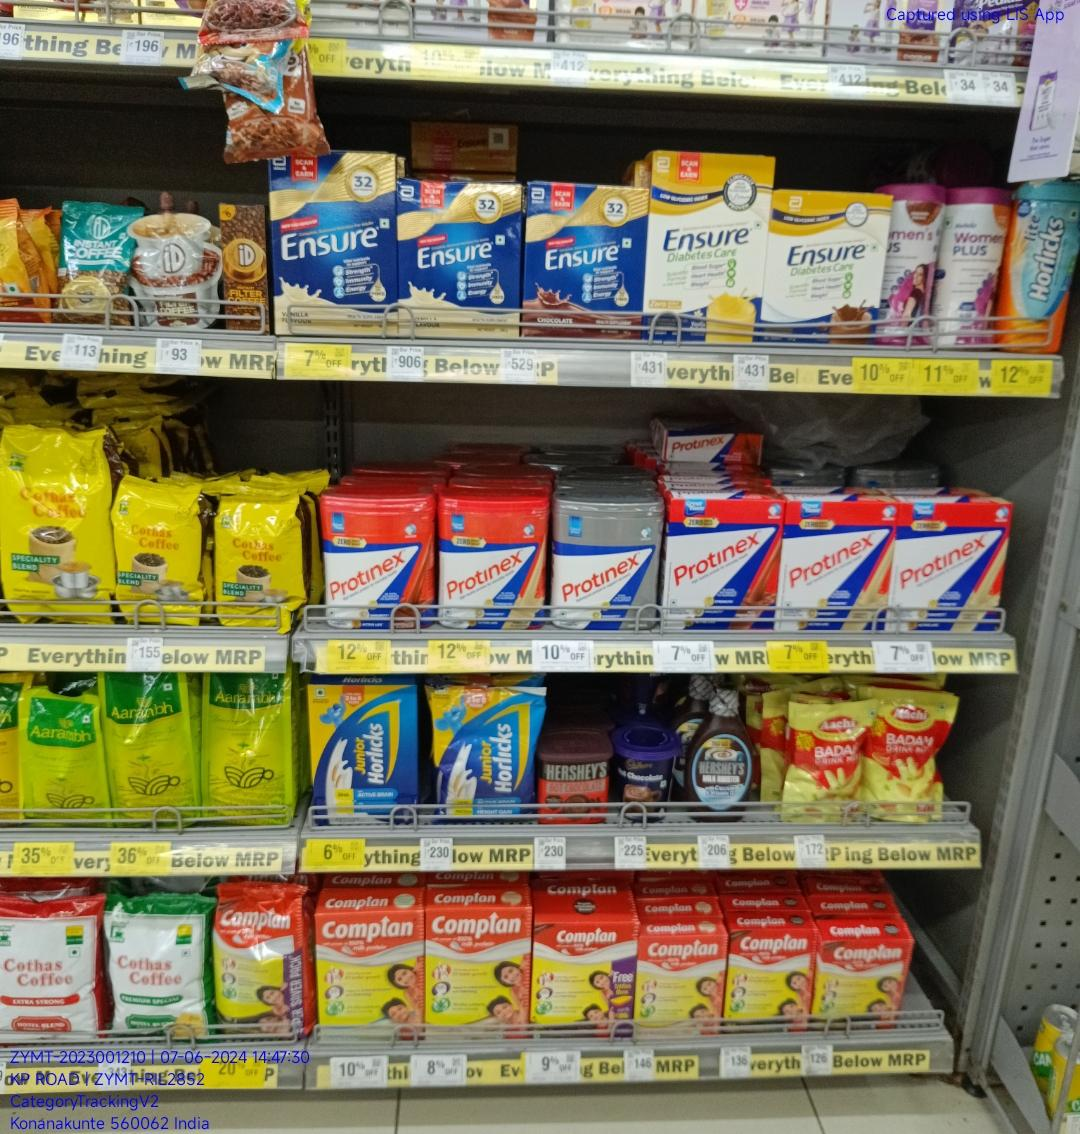COMPLAN_CHOCOLATE_200_GMS_PACK: (819, 934, 909, 1036), (731, 931, 812, 1035)
COMPLAN_CREAMY_CLASSIC_500_G_PACK: (313, 908, 420, 1045)
COMPLAN_KESAR_BADAM_200_GMS_PACK: (638, 931, 724, 1040)
COMPLAN_KESAR_BADAM_500_GMS_PACK: (425, 907, 532, 1042)
COMPLAN_RC_POUCH_700_GMS_12: (217, 884, 300, 1043)
ENSURE_VANILLA_400_G_PACK: (270, 150, 397, 336)
PROTINEX_CHOCOLATE_400_G_JAR: (323, 494, 434, 633)
PROTINEX_ORIGINAL_400_G_JAR: (551, 497, 656, 635)
PROTINEX_VANILLA_400_G_JAR: (436, 495, 542, 630)
